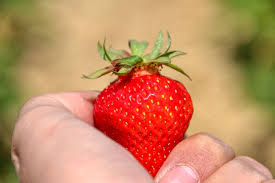ripe: (87, 67, 195, 179)
